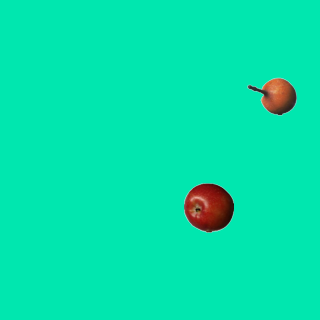Apple Braeburn: (183, 182, 233, 232)
Granadilla: (246, 71, 296, 121)
